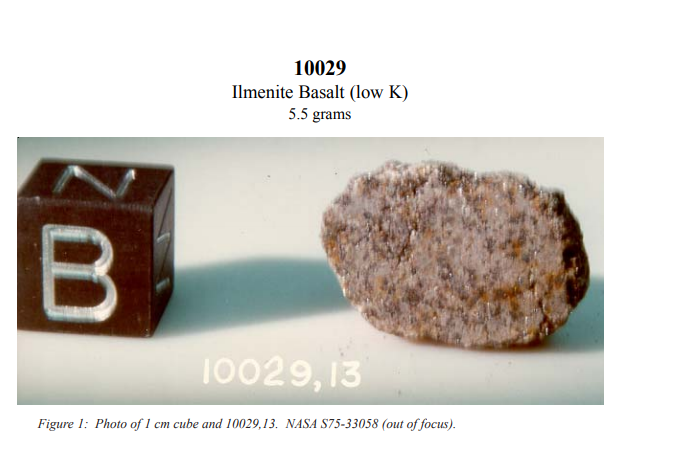Basalt: (292, 150, 592, 356)
